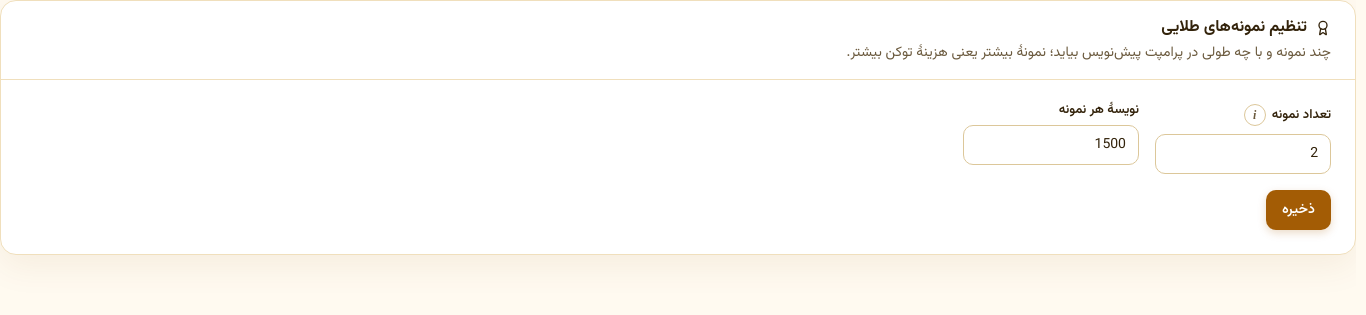
Test case: GoldenSettingsCard › refuses more than the maximum
Replace the text in the number field labelled "تعداد نمونه" with "5" at [1243, 154], box 1155,134 -> 1331,174
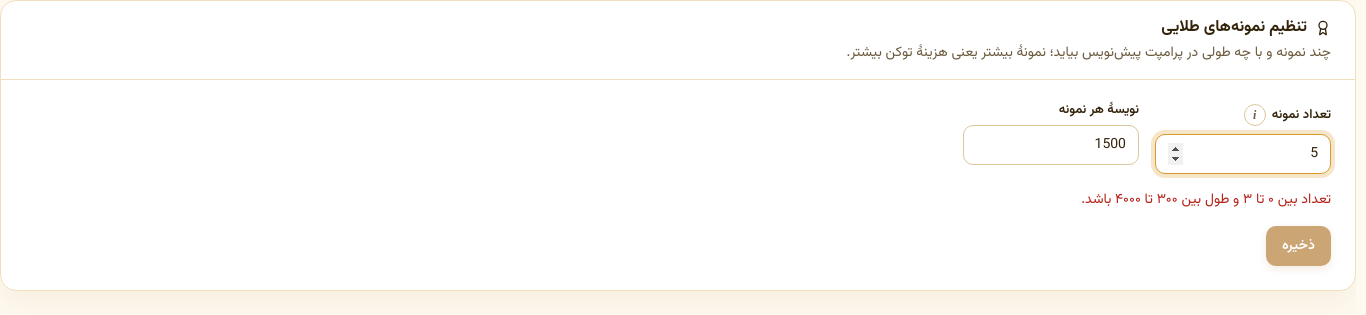
Now the button "ذخیره" is disabled, box 1266,226 -> 1331,266
